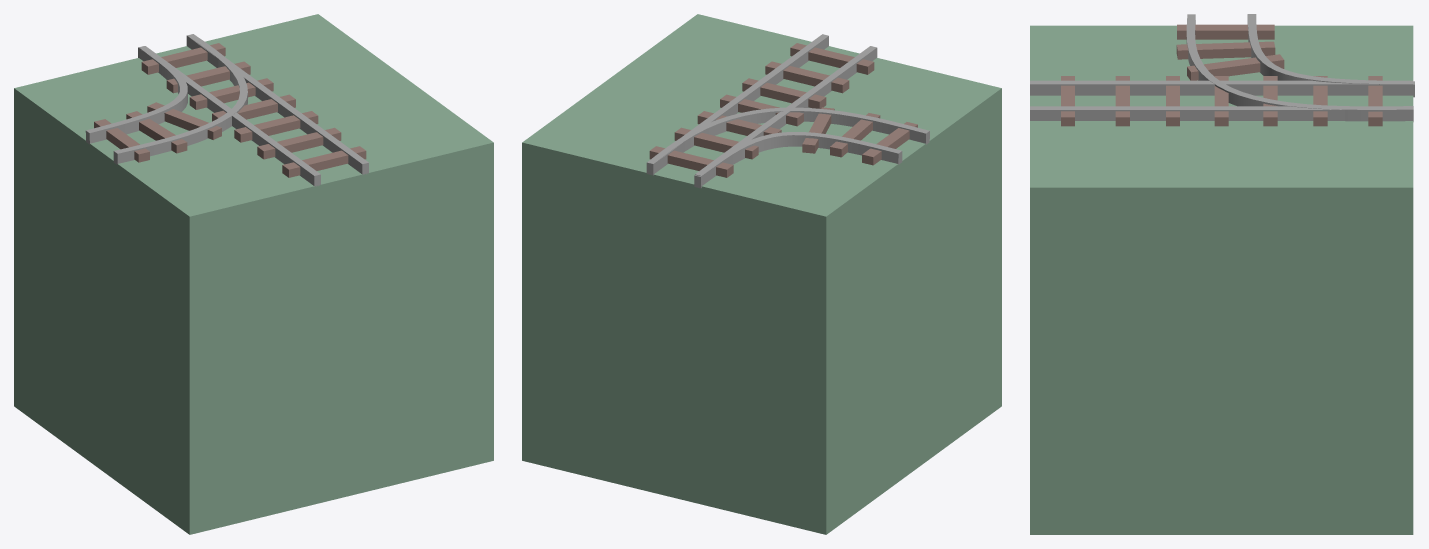
The model's file is wissel_r.fbx.
3 views of the same model, side by side, from view 1: azimuth 30°, elevation 25°; view 2: azimuth 150°, elevation 25°; view 3: azimuth 270°, elevation 25° (orthographic). The views are drawn at different scales.
Visible parts, largest first — view 1: polySurface19; view 2: polySurface19; view 3: polySurface19.
Part boxes in pixels (bbox=[...]): polySurface19: bbox=[14, 14, 493, 534]; polySurface19: bbox=[522, 14, 1001, 534]; polySurface19: bbox=[1030, 14, 1414, 534].
Bounding box in the file's own units: 1 × 1.04 × 1.
